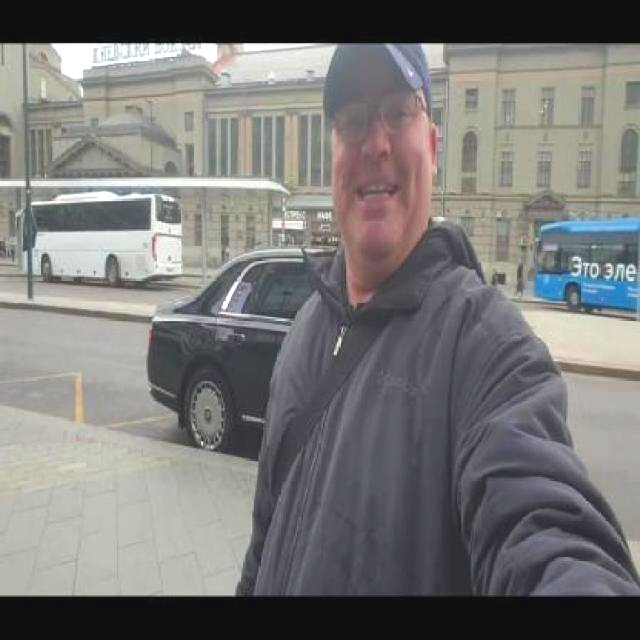bus: (16, 178, 194, 298), (506, 194, 640, 339)
car: (117, 239, 455, 473)
